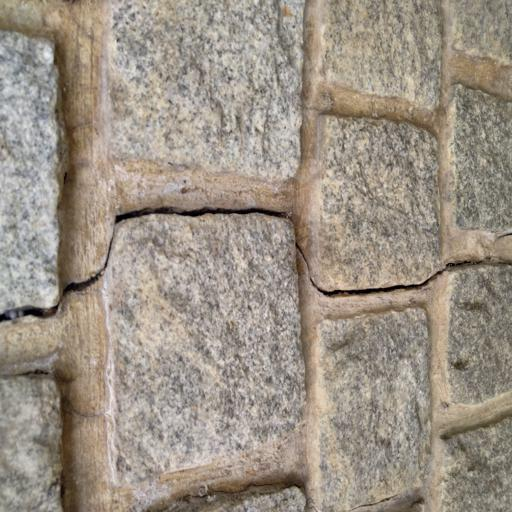major_crack: (0, 191, 512, 333)
